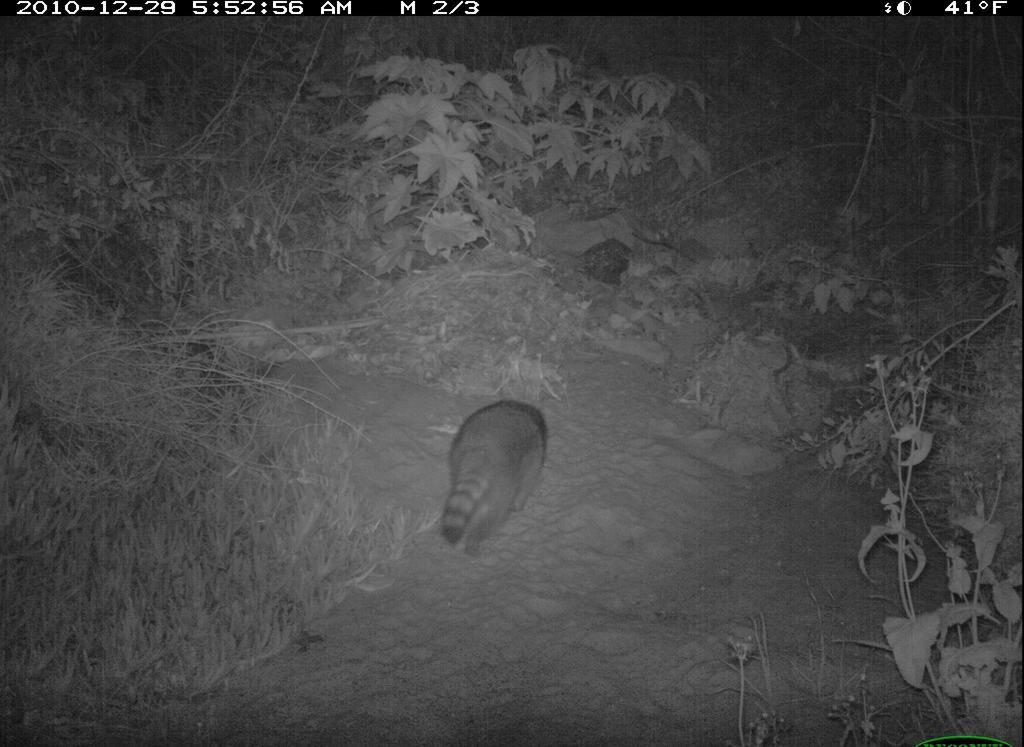raccoon: (431, 390, 558, 563)
